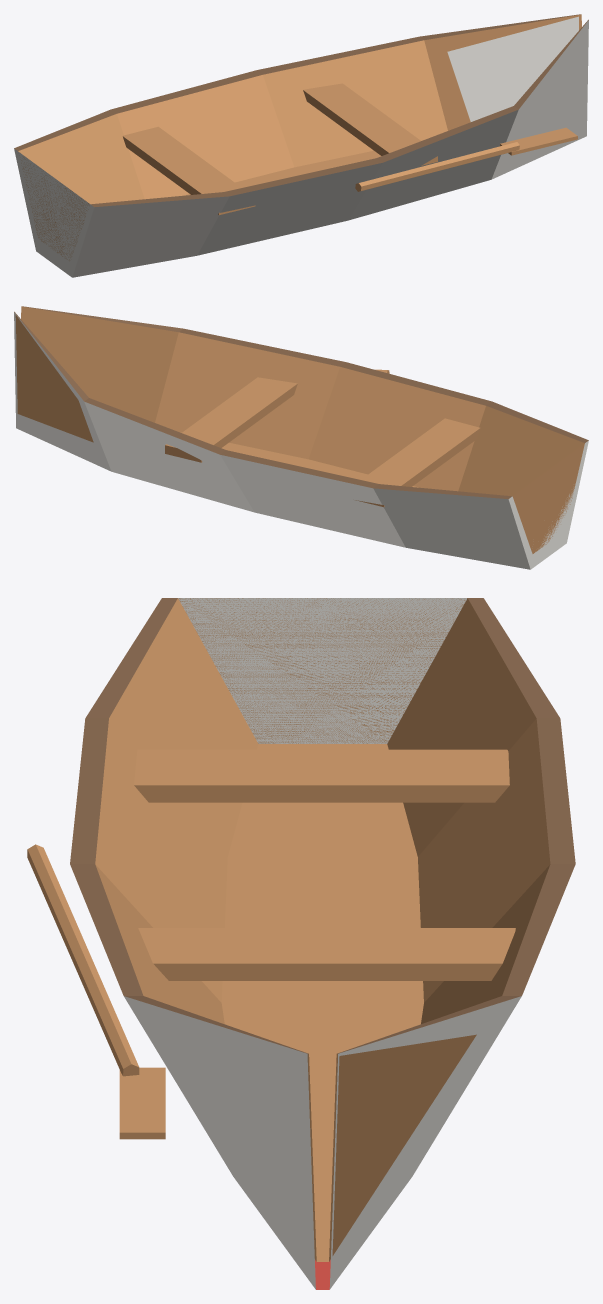
Rendered from boat.glb.
3 views of the same model, one above another, from view 1: azimuth 30°, elevation 25°; view 2: azimuth 150°, elevation 25°; view 3: azimuth 270°, elevation 25° (orthographic). The views are drawn at different scales.
Visible parts, largest first — view 1: boat; view 2: boat; view 3: boat.
Part boxes in pixels (x1,y1,x2,y2): boat: [14, 14, 588, 277]; boat: [14, 306, 588, 569]; boat: [27, 598, 575, 1289].
Size of the model in its own units: 3.2 by 0.68 by 1.43.
